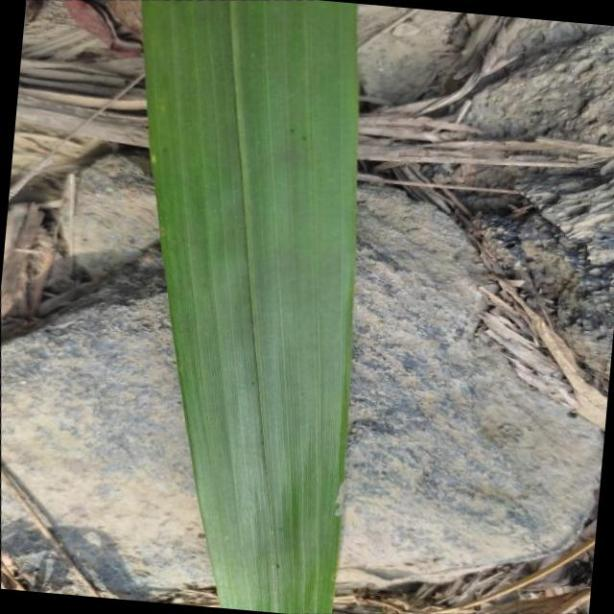Healthy: (137, 1, 358, 614)
